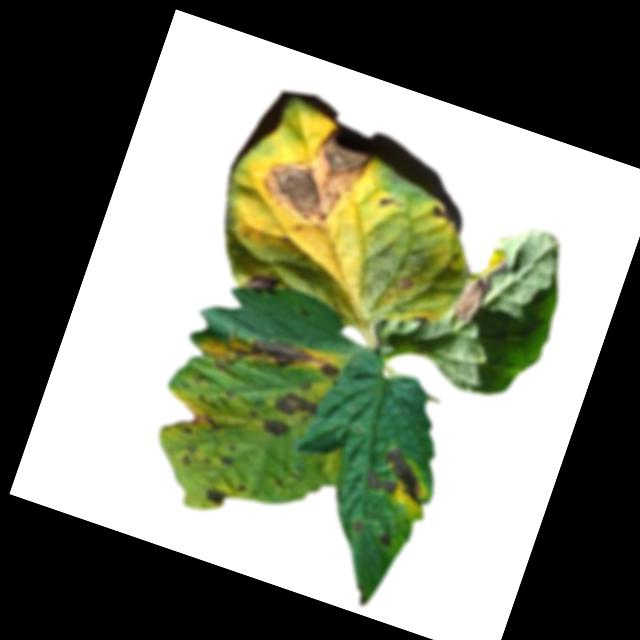Early_blight: (249, 107, 381, 239), (224, 324, 319, 389), (449, 240, 508, 328), (375, 447, 433, 505), (270, 386, 322, 425), (240, 267, 281, 299), (425, 204, 465, 236), (361, 468, 399, 498), (254, 413, 291, 442), (188, 409, 223, 435), (200, 486, 230, 510), (316, 360, 341, 382), (372, 193, 396, 213), (393, 274, 413, 295), (374, 531, 394, 548), (176, 452, 194, 468), (350, 518, 365, 536)
